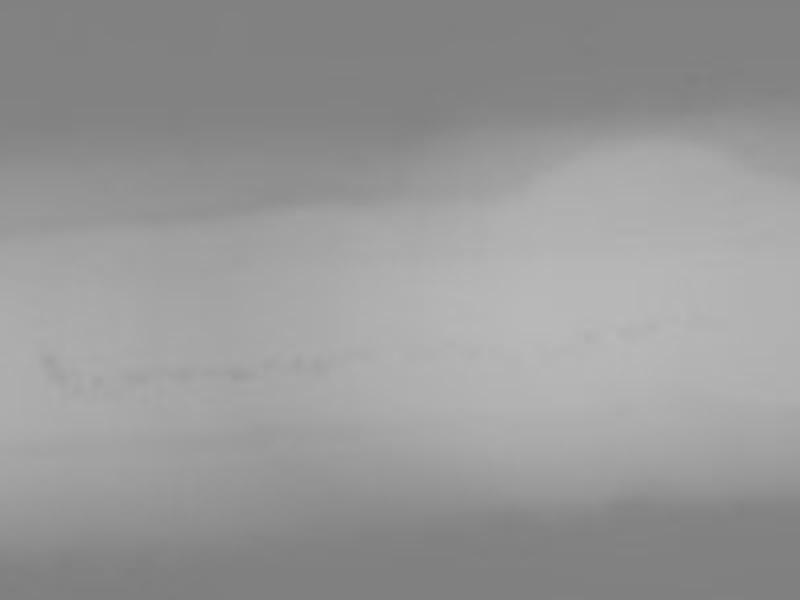defect: (223, 365, 255, 385), (44, 354, 63, 386), (165, 365, 195, 385), (311, 358, 333, 383), (288, 354, 307, 375), (612, 324, 633, 343), (260, 355, 278, 372), (88, 373, 103, 392), (131, 369, 147, 386), (584, 328, 596, 344)
